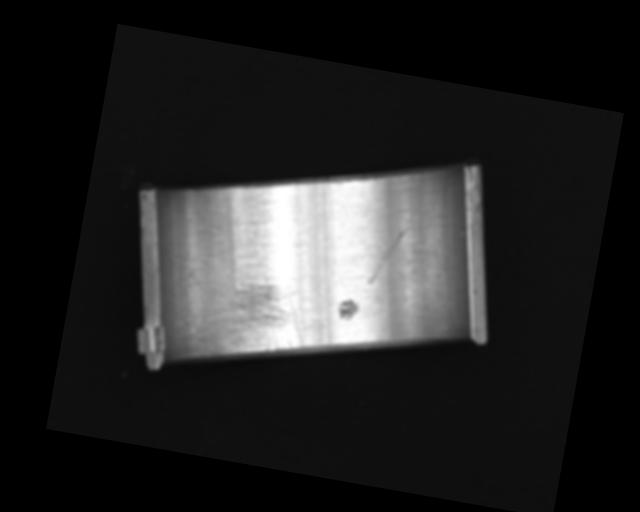bruise: (336, 297, 361, 321)
nick: (309, 180, 347, 293), (367, 222, 408, 290)
scratch: (198, 265, 315, 374)
